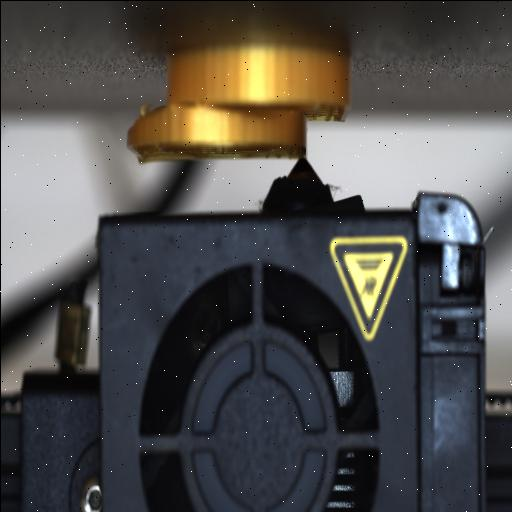layer_shift: (132, 99, 356, 127)
